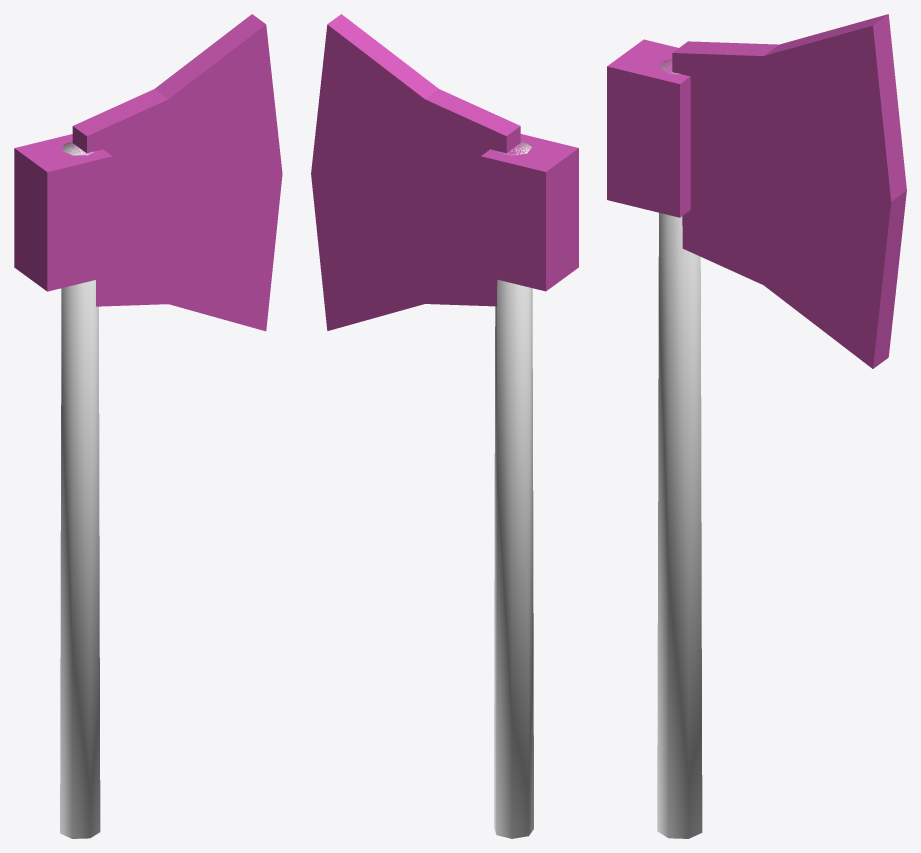
Rendered from nebula_hamaxe.glb.
3 renders of one model, left to right at view 1: azimuth 30°, elevation 25°; view 2: azimuth 150°, elevation 25°; view 3: azimuth 330°, elevation 25°, orthographic. The views are drawn at different scales.
Visible parts, largest first — view 1: nebula_hamaxe_v0; view 2: nebula_hamaxe_v0; view 3: nebula_hamaxe_v0.
Boxes of the visible parts, x1,y1,x2,y2 form: nebula_hamaxe_v0: [14, 14, 282, 838]; nebula_hamaxe_v0: [311, 14, 578, 838]; nebula_hamaxe_v0: [607, 14, 906, 838].
Size of the model in its own units: 0.3 by 0.9 by 0.07.
